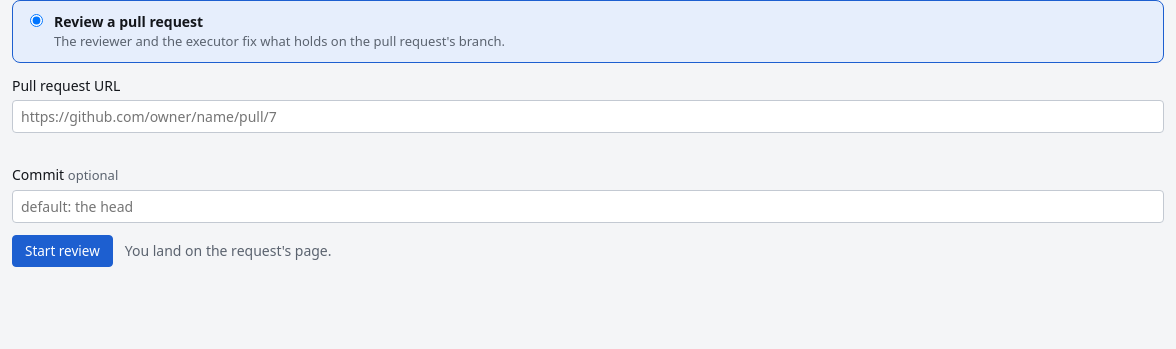
StartForm › keeps the dialog open with the API's reason when it refuses
The width and height of the screenshot is (1176, 349).
Type "https://github.com/docspec/secret/pull/1" into the field labelled "Pull request URL".
click(588, 116); type("https://github.com/docspec/secret/pull/1")  # box [12,100,1164,132]
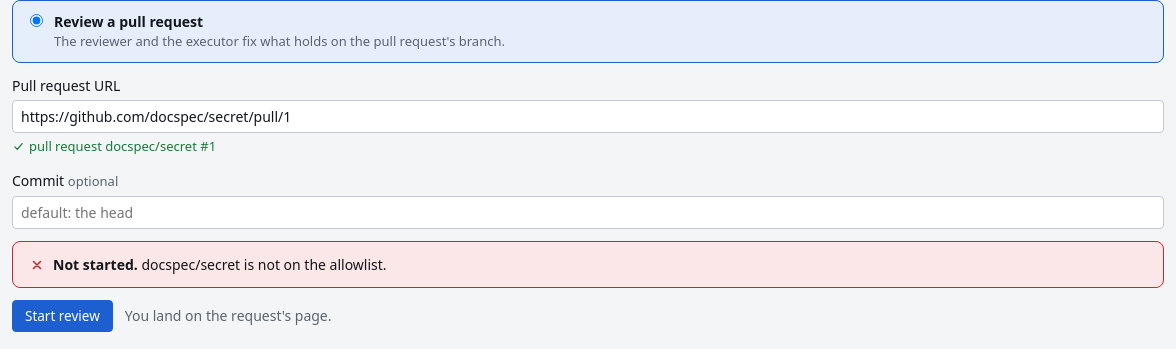
Expected: the button "Start review" is enabled, [12,300,113,332]
Expected: the message "Not started. docspec/secret is not on the allowlist." is shown, [12,241,1164,288]
